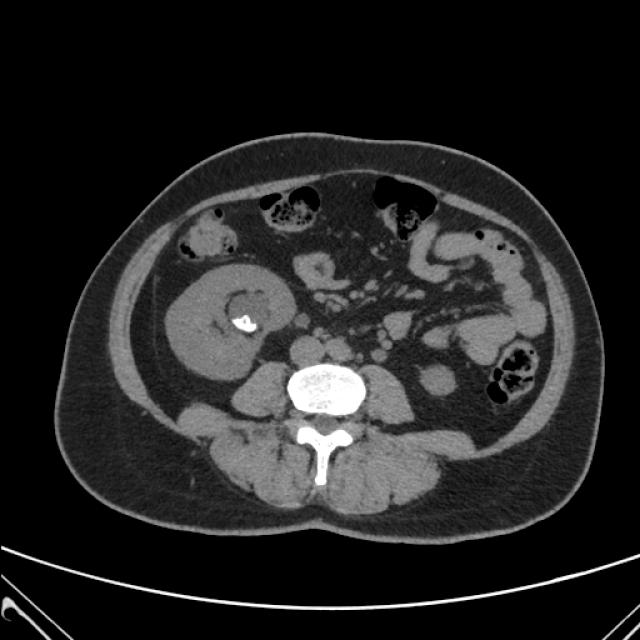kidney: (222, 285, 274, 380), (424, 368, 453, 393)
stone: (234, 319, 256, 332)
